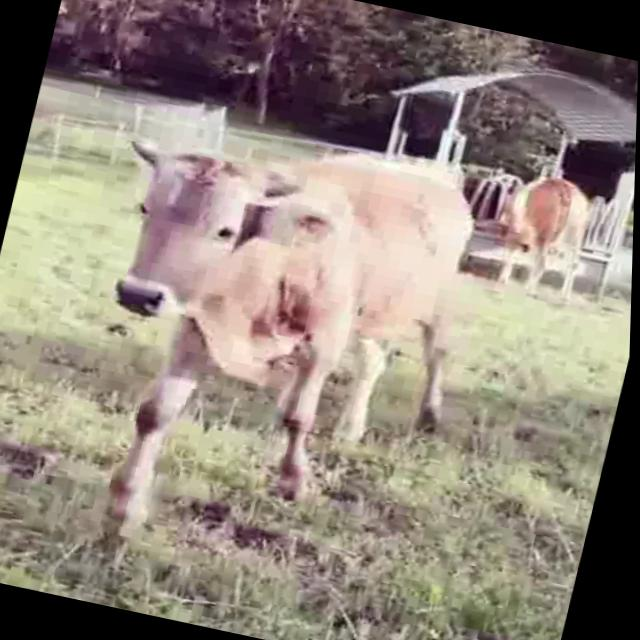cowFace: (86, 132, 342, 353)
